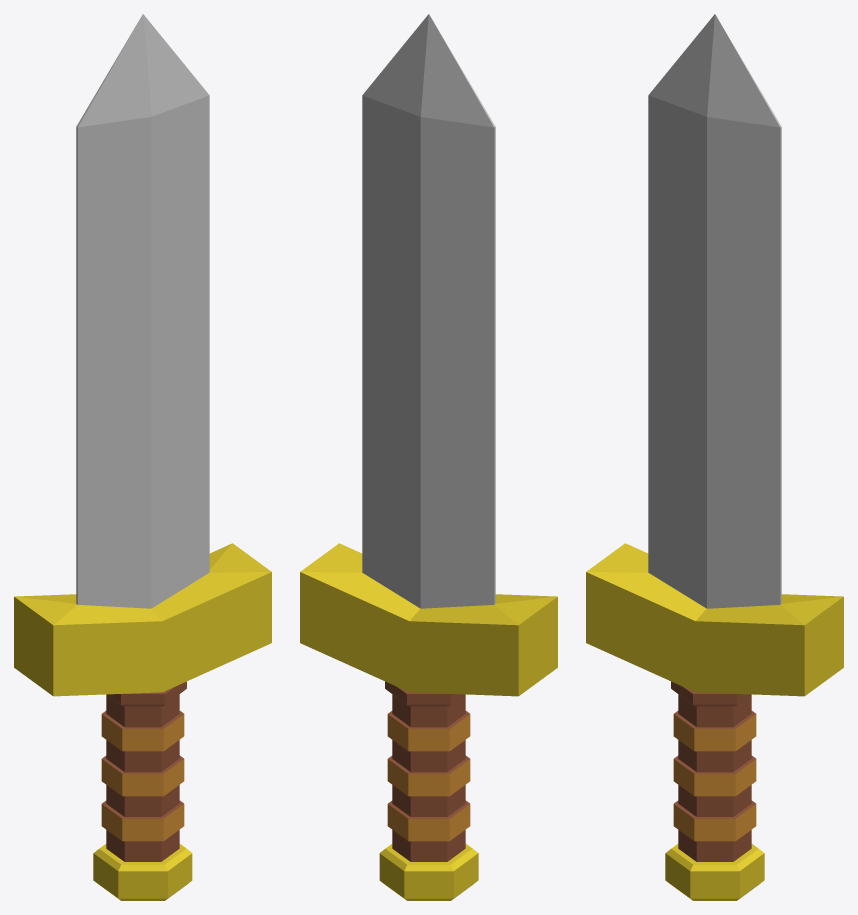
The model's file is sword.glb.
3 views of the same model, side by side, from view 1: azimuth 30°, elevation 25°; view 2: azimuth 150°, elevation 25°; view 3: azimuth 330°, elevation 25° (orthographic).
Visible parts, largest first — view 1: 立方体; view 2: 立方体; view 3: 立方体.
Boxes of the visible parts, left/top/right/bottom form: 立方体: left=14, top=14, right=271, bottom=900; 立方体: left=300, top=14, right=557, bottom=900; 立方体: left=586, top=14, right=843, bottom=900.
Bounding box in the file's own units: 6.13 × 23.33 × 2.4.
